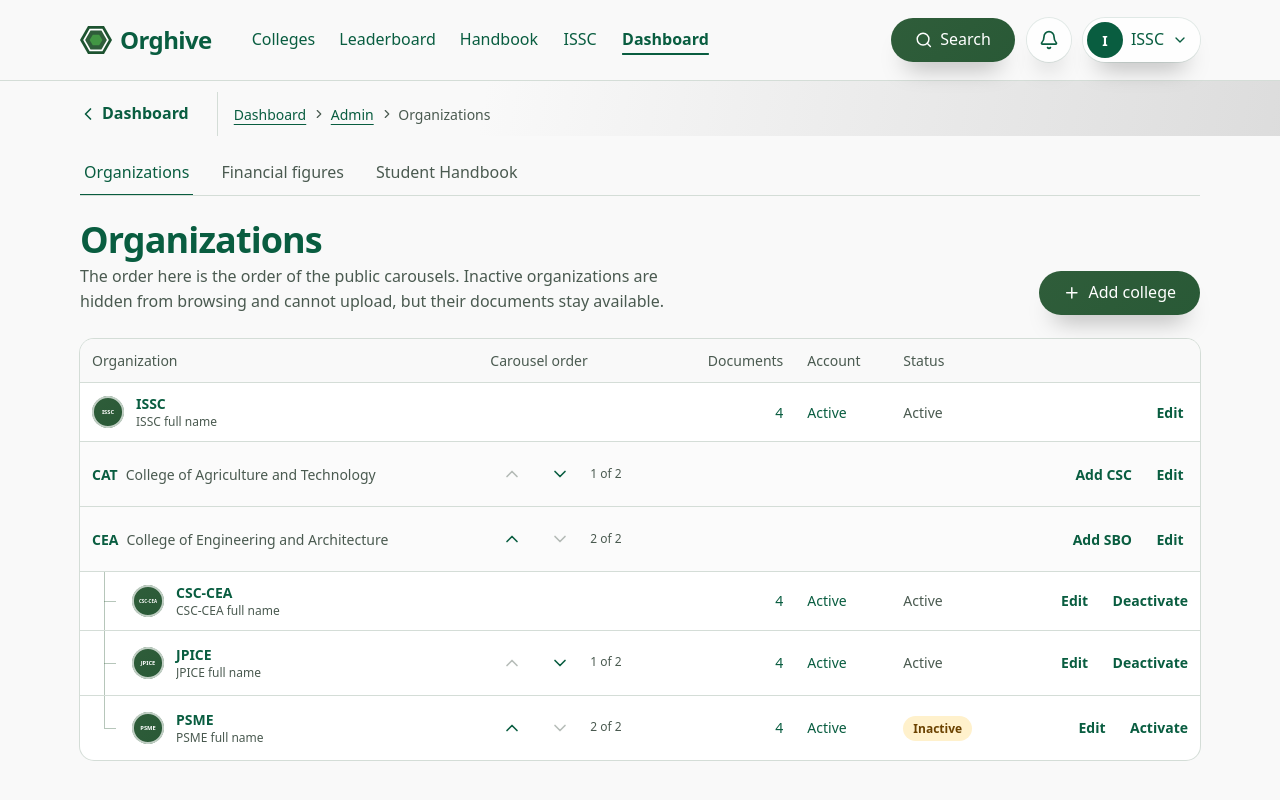
Test: /admin › edits an organization in the side sheet; its link name is fixed
Click the button with aria-label "Edit JPICE": (1075, 663) 1057,652 -> 1093,673
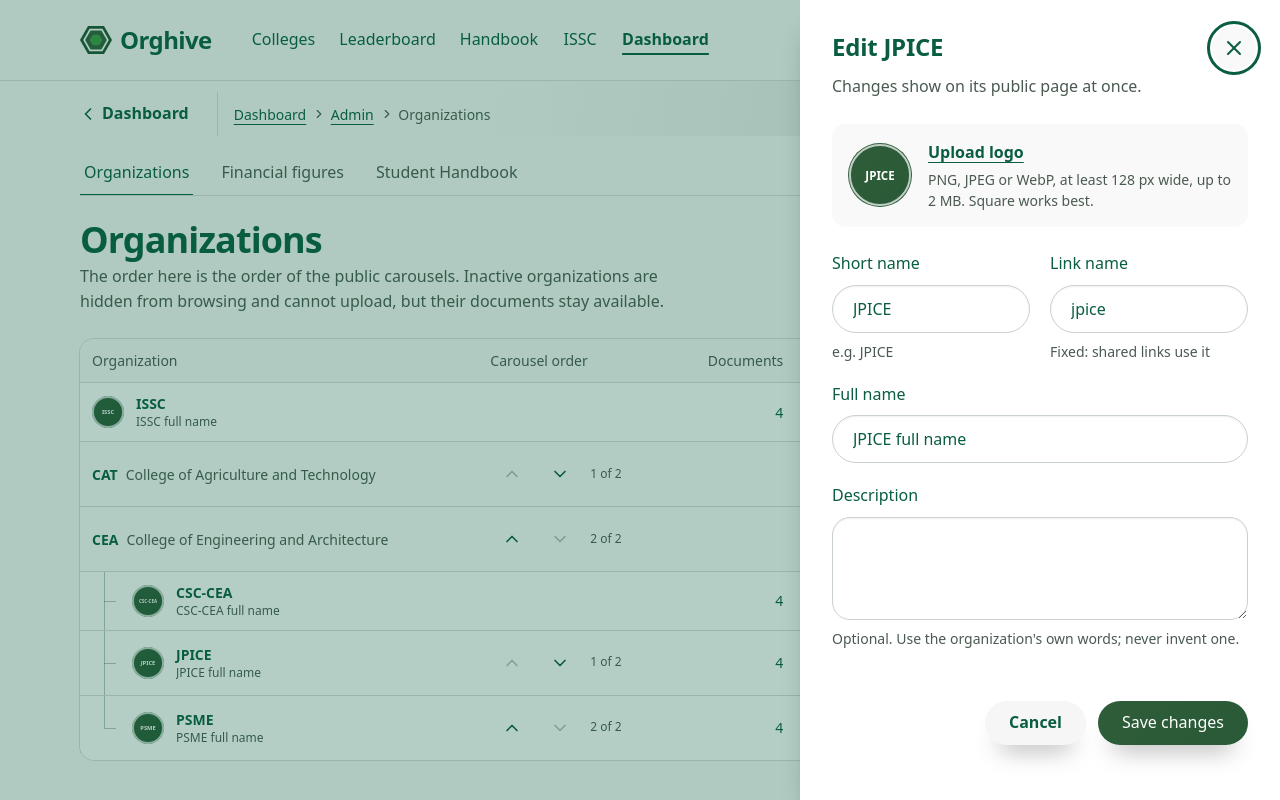
Now the field labelled "Link name" is disabled, box 1050,285 -> 1248,333
Replace the text in the field labelled "Full name" with "Junior Philippine Institute of Civil Engineers": (1040, 439) 832,415 -> 1248,463
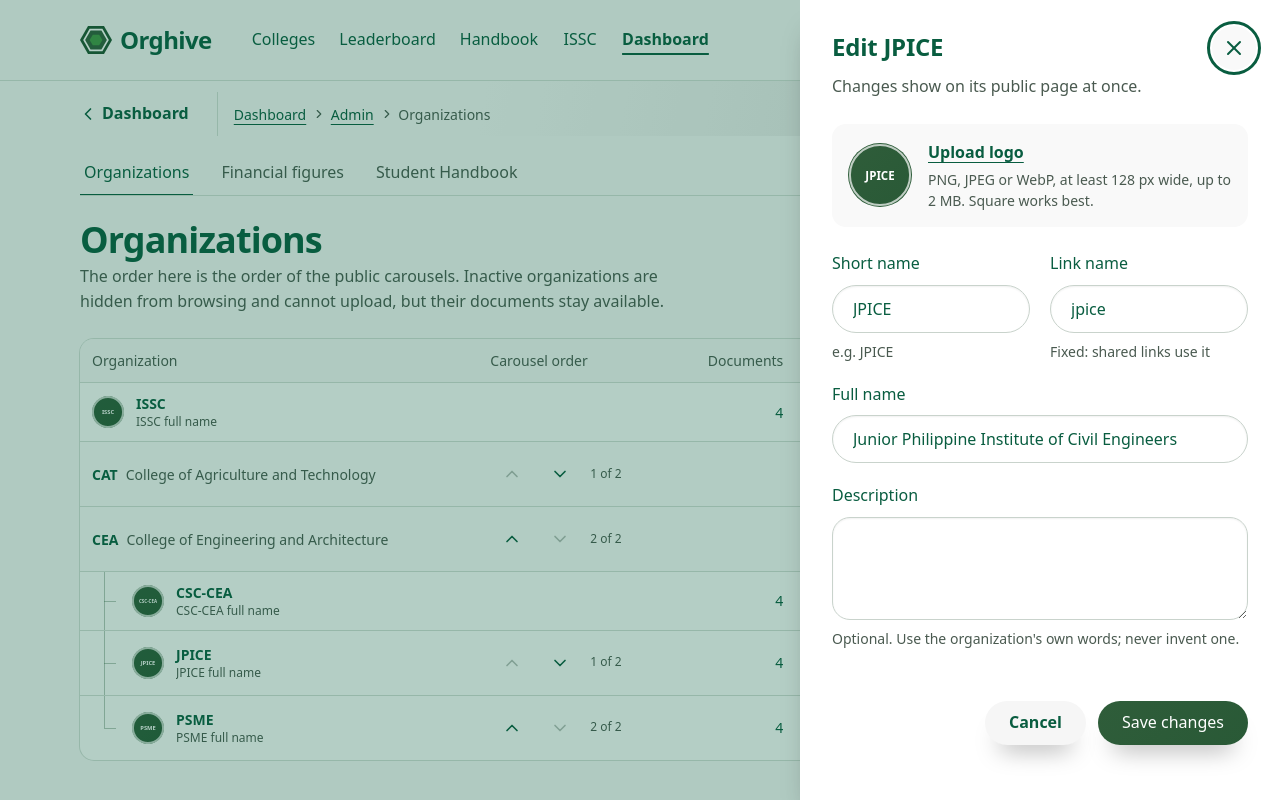
Click the button "Save changes": (1173, 723) 1098,701 -> 1248,745
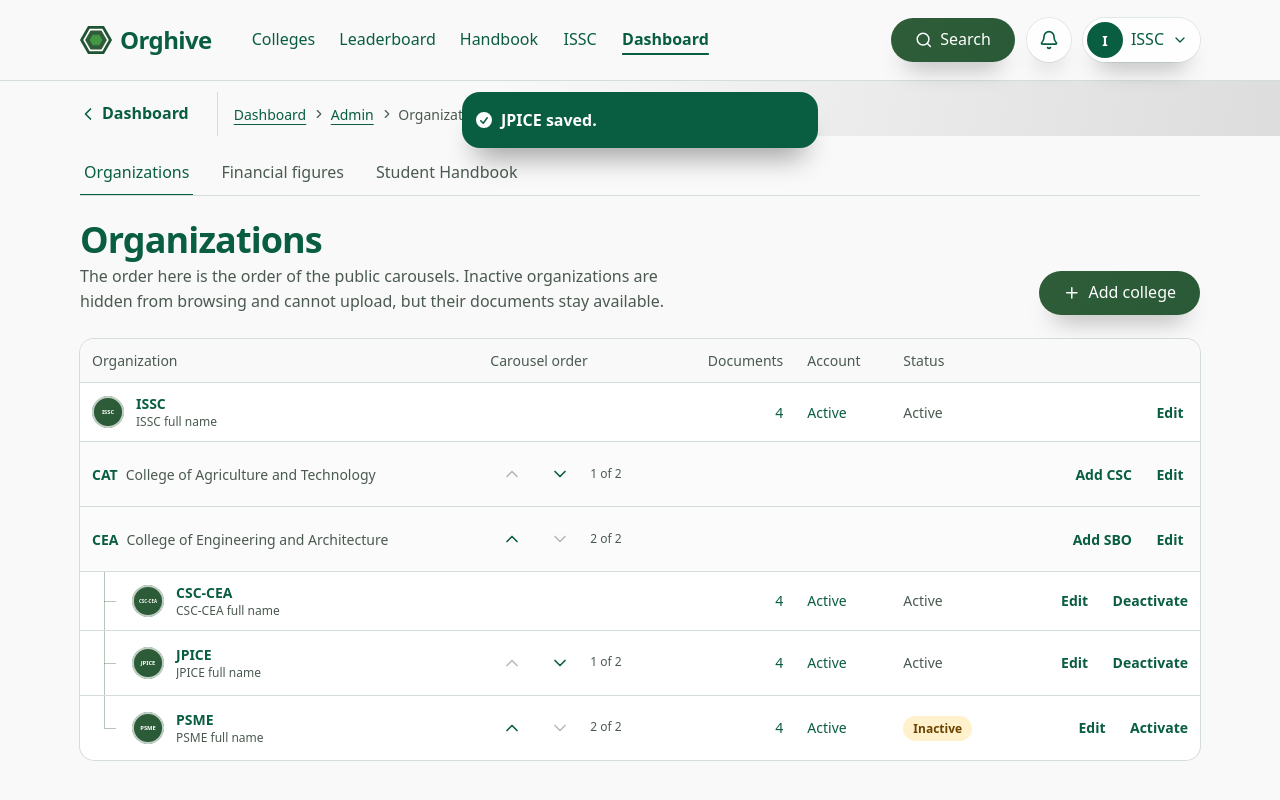
Now the dialog is gone
